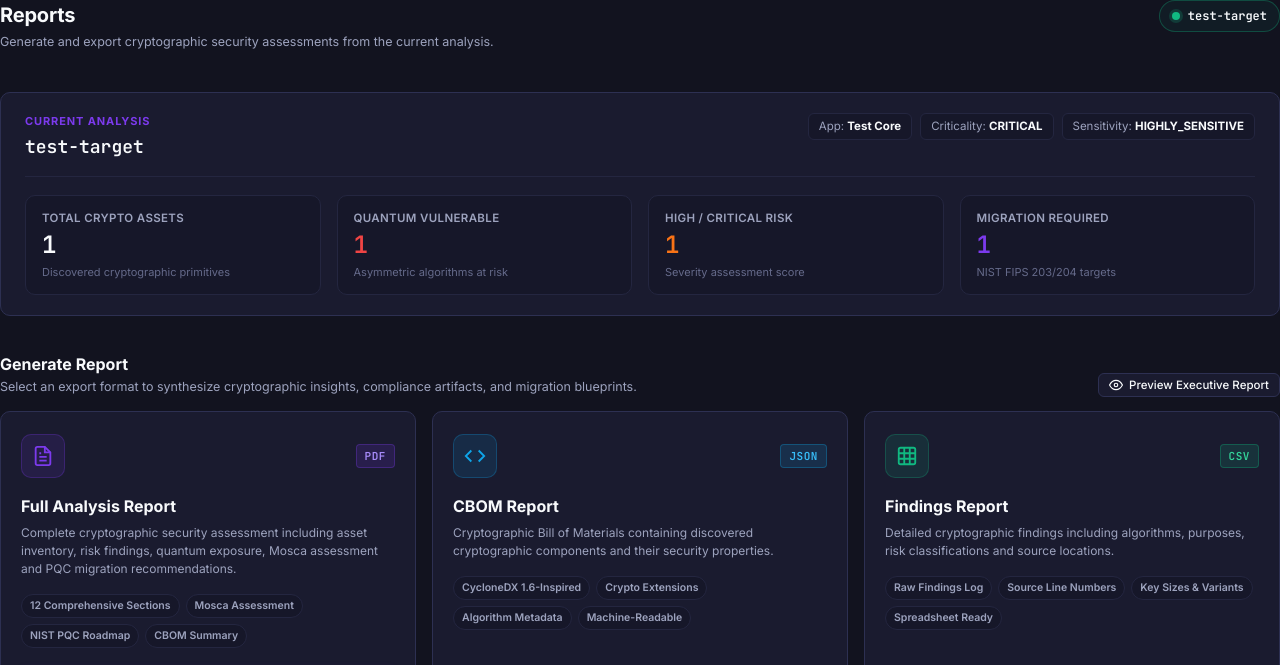
Test: ECDAT Enterprise Frontend Redesign Tests › 20. Phase 4B: Generates Full Analysis Report (PDF/HTML) and toggles Executive Preview modal
The image size is (1280, 665).
# Open Executive Preview Modal
Click the button "Preview Executive Report": (1189, 385) [1098,373,1279,397]
(page scrolled)
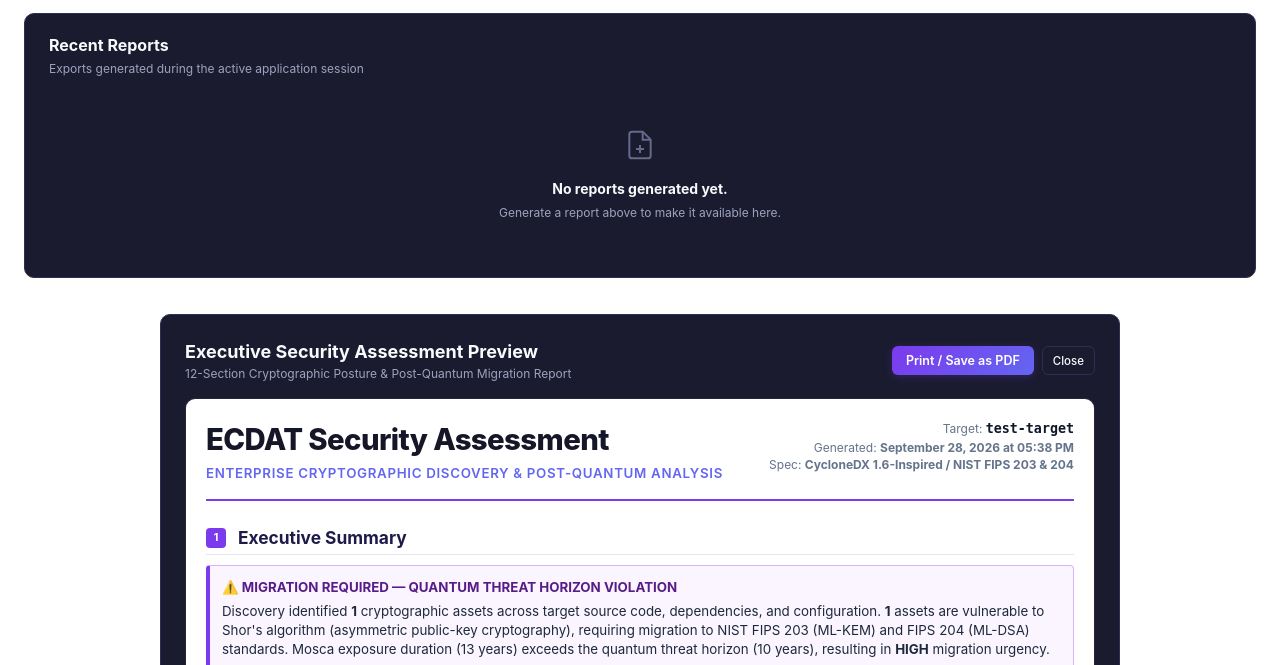
Result: the heading "Executive Security Assessment Preview" is shown at [185,339,571,365]
Result: the text "12-Section Cryptographic Posture" is shown at [185,366,571,381]
# Close preview modal
Click the button "Close": (1068, 361) [1042,346,1095,375]
(page scrolled)
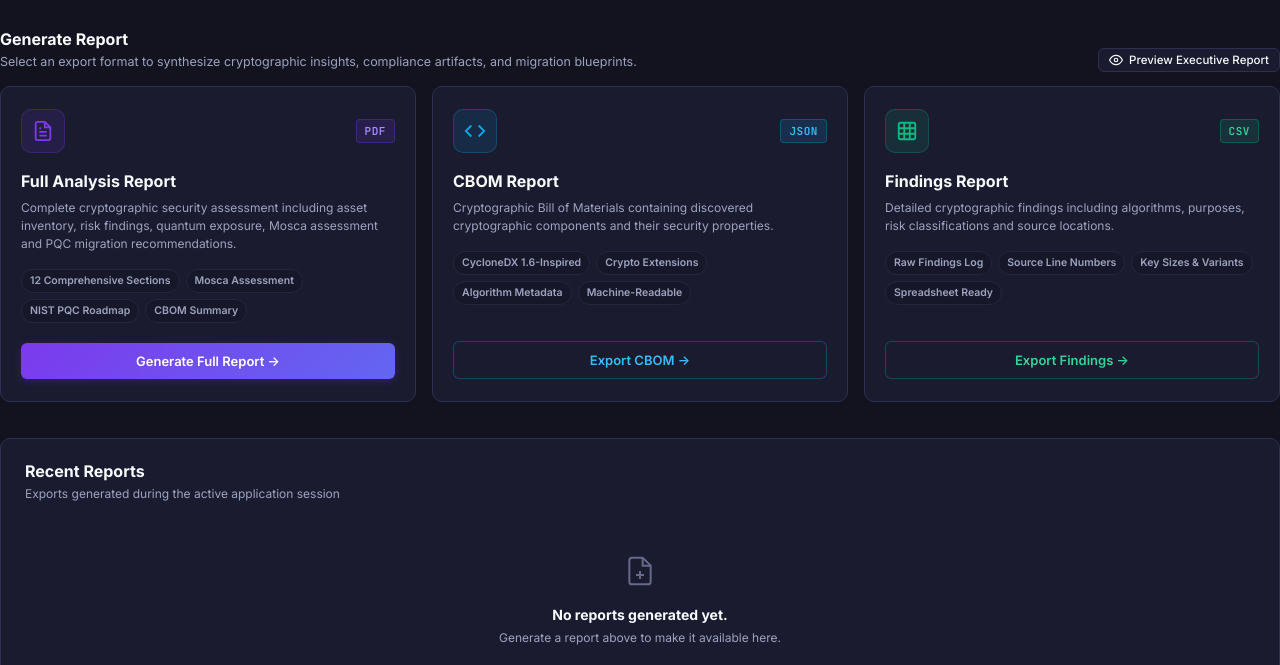
Result: the heading "Executive Security Assessment Preview" is gone
# Generate Full Report
Click the button "Generate Full Report →": (208, 361) [21,343,395,379]
(page scrolled)
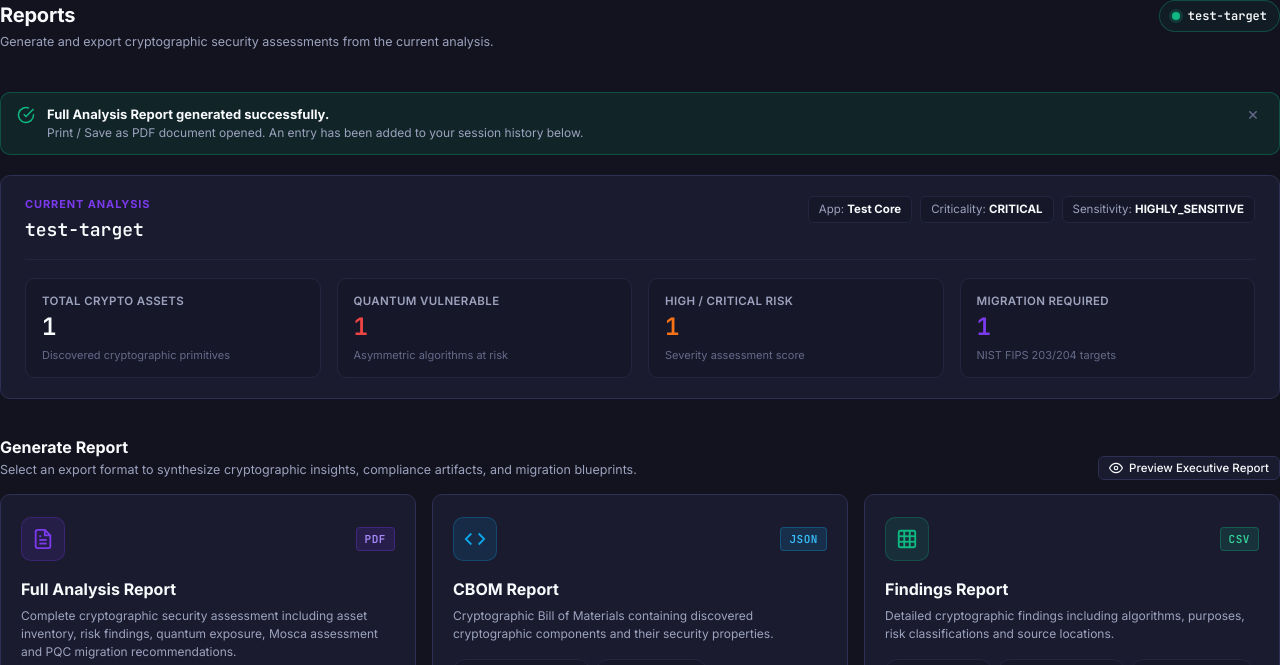
Result: the text "Full Analysis Report generated successfully." is shown at [47,106,329,122]
